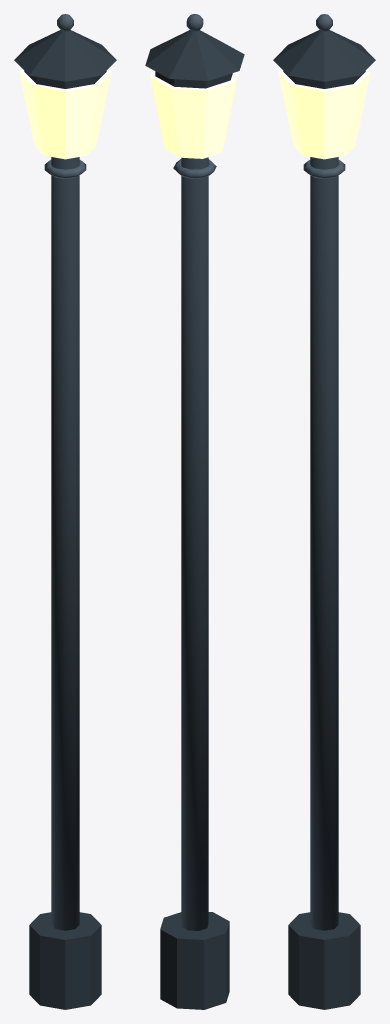
The model's file is lamp-post.glb.
3 renders of one model, left to right at view 1: azimuth 90°, elevation 25°; view 2: azimuth 150°, elevation 25°; view 3: azimuth 270°, elevation 25°, orthographic.
Visible parts, largest first — view 1: lamp-pole, lamp-base, lamp-glass, lamp-roof, lamp-head-cap, lamp-collar; view 2: lamp-pole, lamp-base, lamp-glass, lamp-roof, lamp-head-cap, lamp-collar; view 3: lamp-pole, lamp-base, lamp-glass, lamp-roof, lamp-head-cap, lamp-collar.
Boxes of the visible parts, <box> form: lamp-pole: <box>51,157,79,930</box>; lamp-base: <box>29,912,101,1009</box>; lamp-glass: <box>19,68,111,159</box>; lamp-roof: <box>14,30,116,81</box>; lamp-head-cap: <box>24,71,106,88</box>; lamp-collar: <box>44,160,86,178</box>; lamp-pole: <box>181,157,208,930</box>; lamp-base: <box>160,912,229,1009</box>; lamp-glass: <box>150,70,238,158</box>; lamp-roof: <box>145,30,244,80</box>; lamp-head-cap: <box>155,71,232,88</box>; lamp-collar: <box>173,159,216,178</box>; lamp-pole: <box>310,157,338,930</box>; lamp-base: <box>288,912,360,1009</box>; lamp-glass: <box>278,68,370,159</box>; lamp-roof: <box>273,30,375,81</box>; lamp-head-cap: <box>283,71,365,88</box>; lamp-collar: <box>303,160,345,178</box>.
Bounding box in the file's own units: 0.4 × 4.21 × 0.4.
